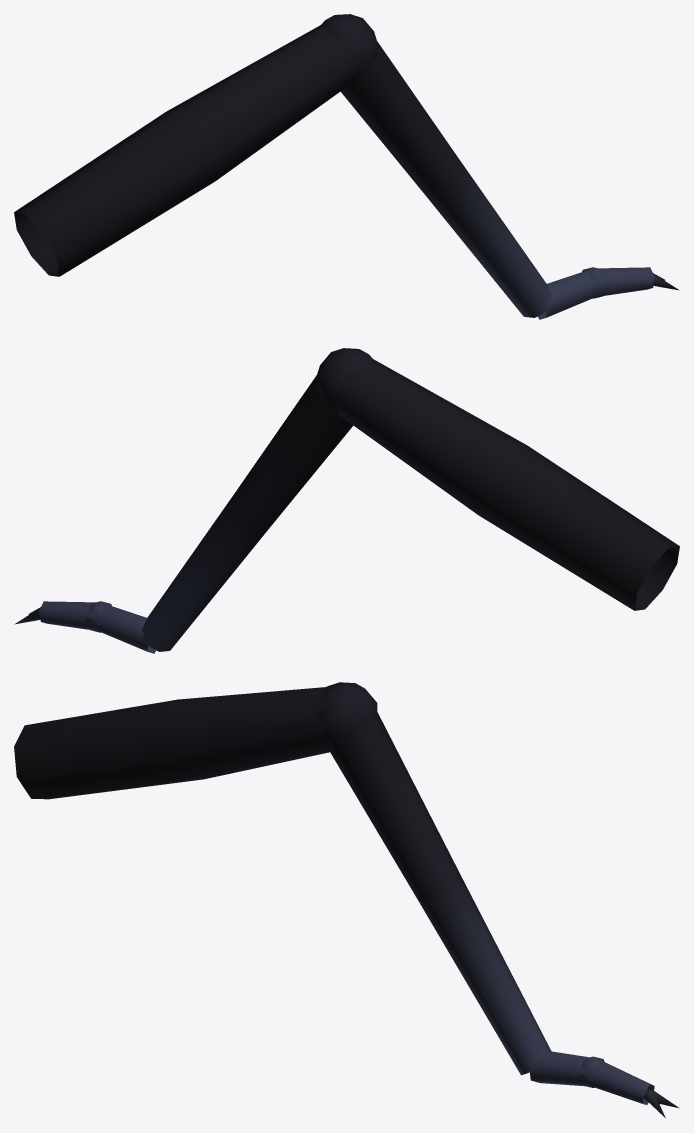
File: Kamikiri_Leg2.fbx
3 views of the same model, one above another, from view 1: azimuth 30°, elevation 25°; view 2: azimuth 150°, elevation 25°; view 3: azimuth 330°, elevation 25° (orthographic).
Visible parts, largest first — view 1: Kamikiri_Leg2; view 2: Kamikiri_Leg2; view 3: Kamikiri_Leg2.
Boxes of the visible parts, x1=… form: Kamikiri_Leg2: x1=14, y1=14, x2=679, y2=319; Kamikiri_Leg2: x1=14, y1=348, x2=679, y2=653; Kamikiri_Leg2: x1=14, y1=682, x2=679, y2=1118.
Bounding box in the file's own units: 0.3365 × 0.1741 × 0.0389.
